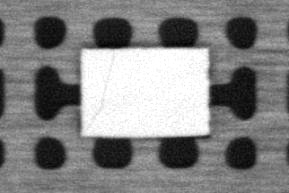DIE_CRACK: (84, 51, 116, 131)
